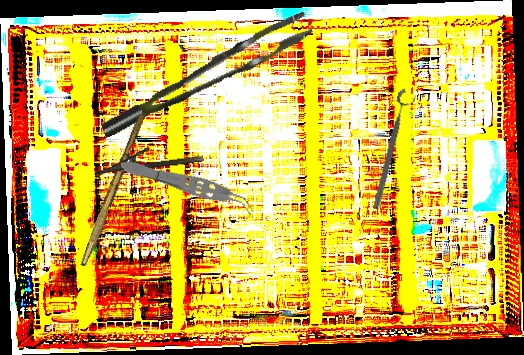Fixation Ring: (369, 87, 419, 212)
Needle Holder: (93, 141, 204, 176)
Scalpel Handle: (80, 112, 146, 269)
Tissue Forceps: (89, 11, 322, 138), (116, 153, 261, 218)
